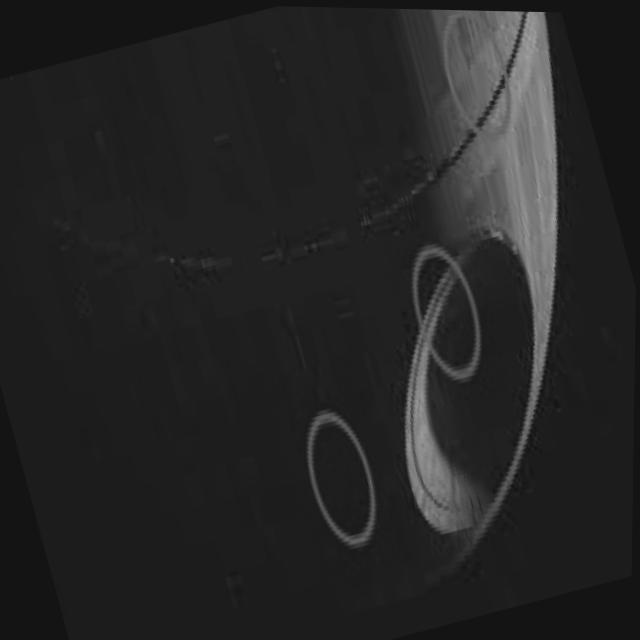death-stars: (10, 5, 558, 611)
